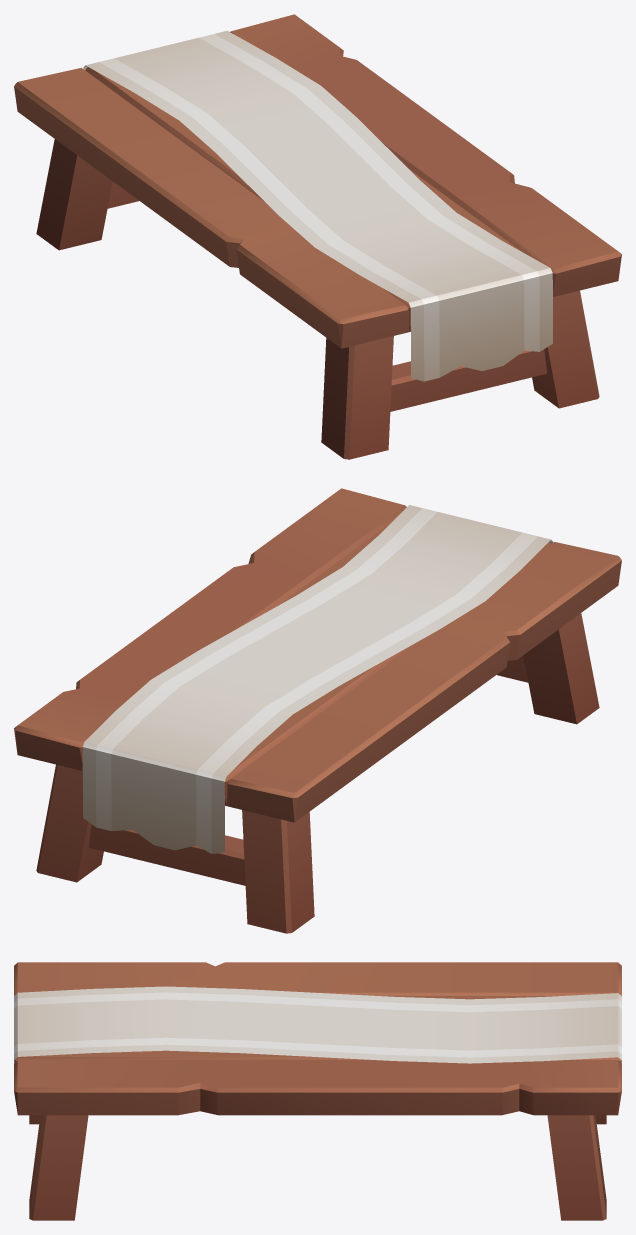
Rendered from table_long_tablecloth.obj.
The picture shows the model from 3 angles, top to bottom: view 1: azimuth 30°, elevation 25°; view 2: azimuth 150°, elevation 25°; view 3: azimuth 270°, elevation 25°; orthographic projection. The views are drawn at different scales.
Parts seen in each view (by area): view 1: table_long_tablecloth; view 2: table_long_tablecloth; view 3: table_long_tablecloth.
Part boxes in pixels (x1=…): table_long_tablecloth: x1=14, y1=14, x2=621, y2=459; table_long_tablecloth: x1=14, y1=488, x2=621, y2=933; table_long_tablecloth: x1=14, y1=962, x2=621, y2=1220.
Size of the model in its own units: 2 by 1 by 4.
1 material, 1 textured.
